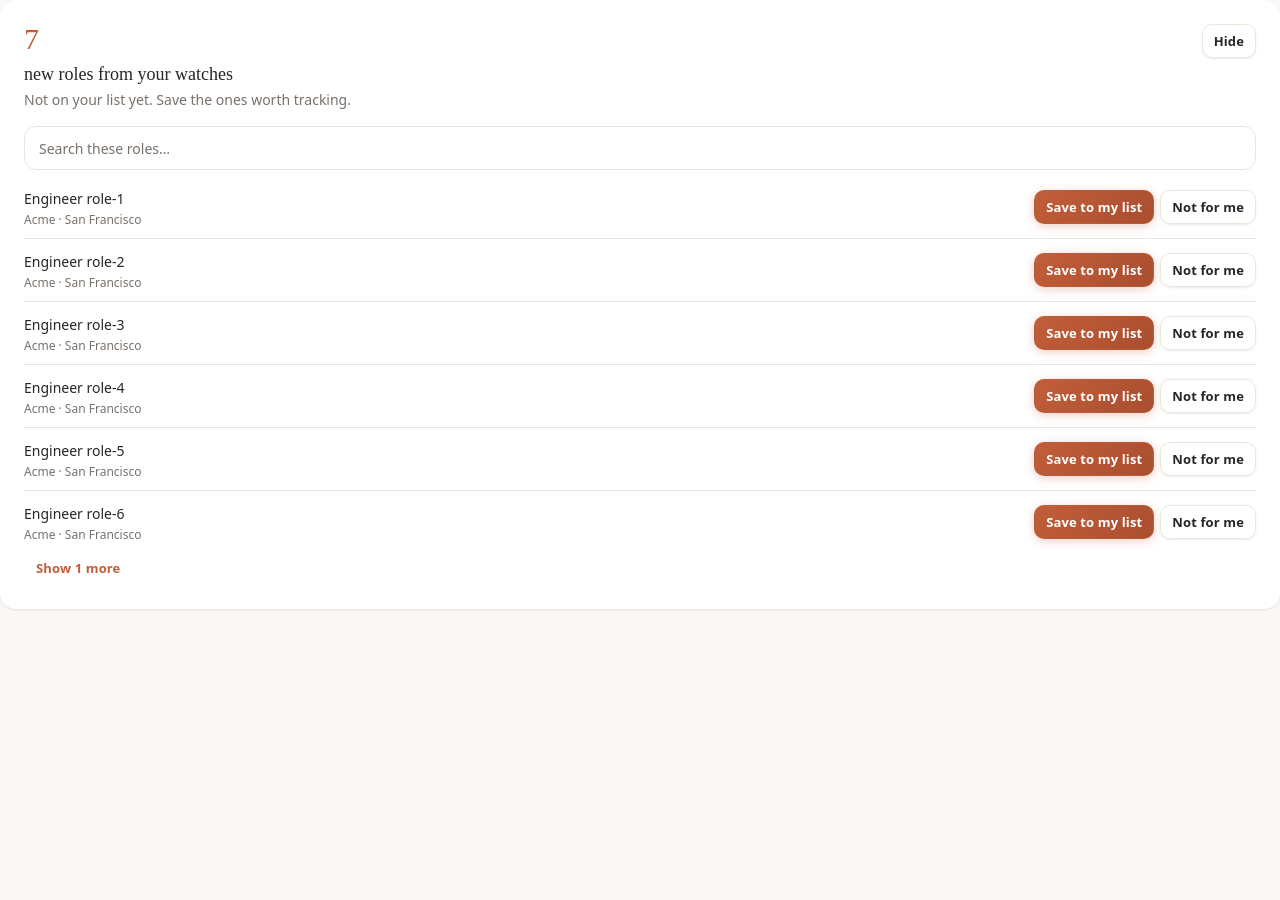
Scenario: NewRolesPanel company preview › keeps the six-role collapsed preview and reveals the remainder on request
Check: the number of list items is 6, box [24, 186, 1256, 239]; [24, 239, 1256, 302]; [24, 302, 1256, 365]; [24, 365, 1256, 428]; [24, 428, 1256, 491]; [24, 491, 1256, 543]
What coordinates should you click on to do the following:
click the button "Show 1 more"
I would click on:
 (78, 568)
Its box is [24, 551, 132, 585].
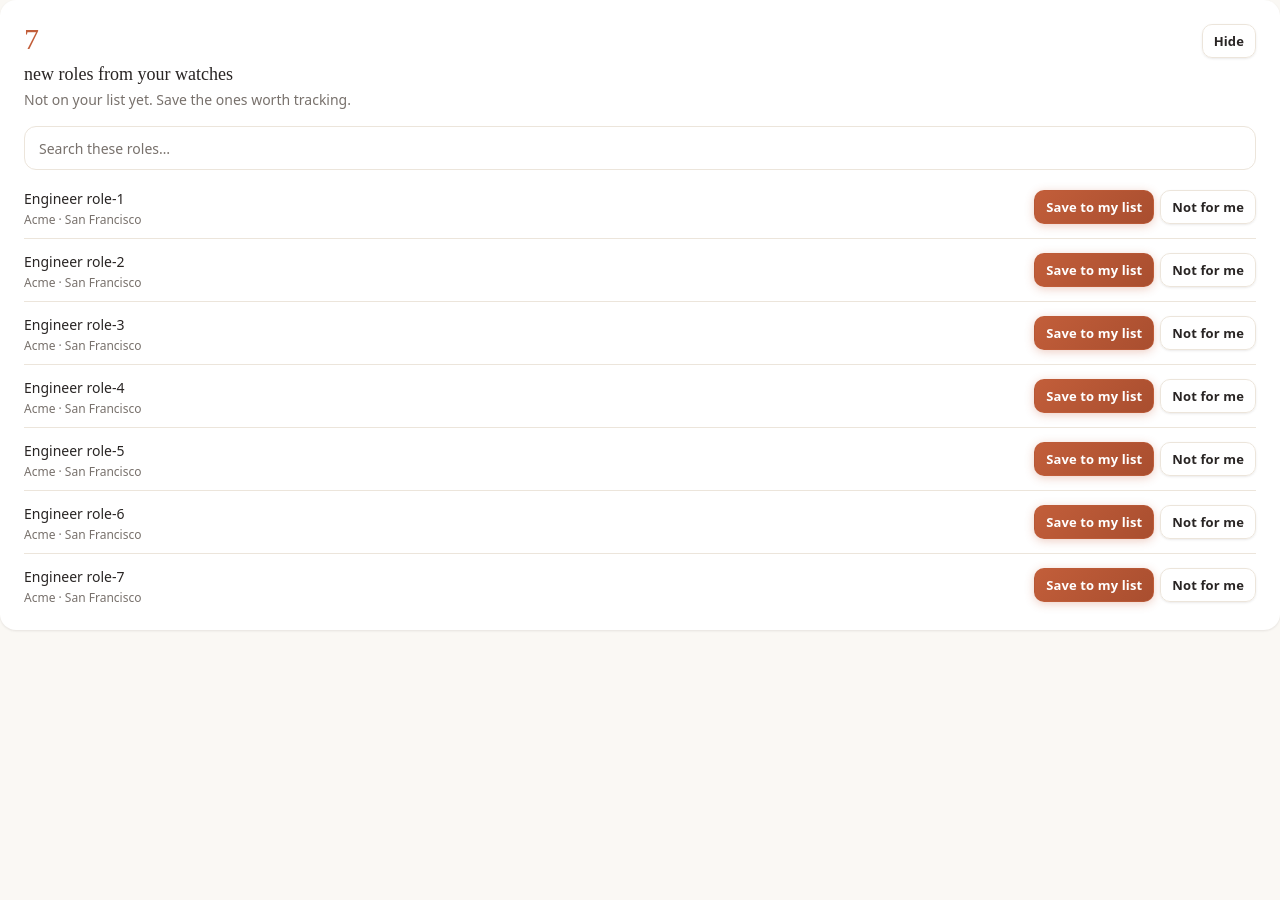
Check: the number of list items is 7
